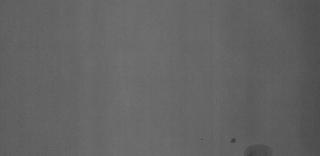oil spot: (242, 142, 274, 156), (229, 138, 237, 144)
